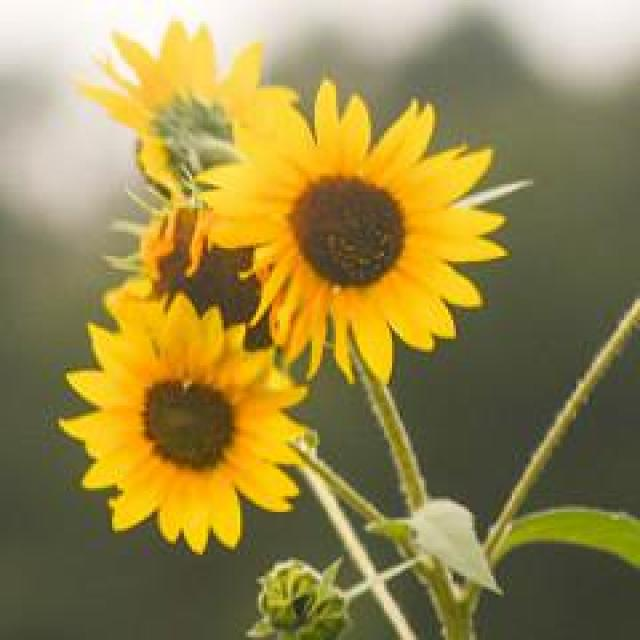sunflower: (196, 78, 505, 380), (67, 288, 312, 552), (75, 25, 303, 197), (128, 203, 300, 347)
